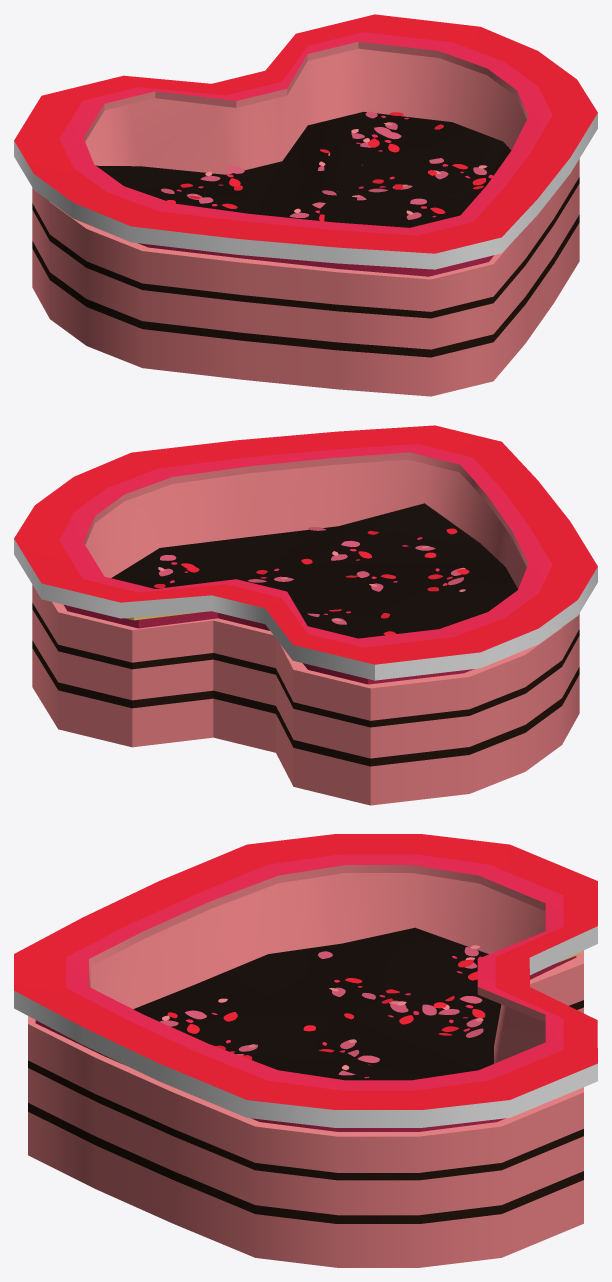
The model's file is ChocoTang.fbx.
3 renders of one model, top to bottom at view 1: azimuth 30°, elevation 25°; view 2: azimuth 150°, elevation 25°; view 3: azimuth 270°, elevation 25°, orthographic. The views are drawn at different scales.
Visible parts, largest first — view 1: ChocoTang; view 2: ChocoTang; view 3: ChocoTang.
Part boxes in pixels (x1,y1,x2,y2): ChocoTang: (14, 14, 597, 396); ChocoTang: (14, 425, 597, 805); ChocoTang: (14, 834, 597, 1267).
Bounding box in the file's own units: 1.41 × 0.3959 × 1.26.
